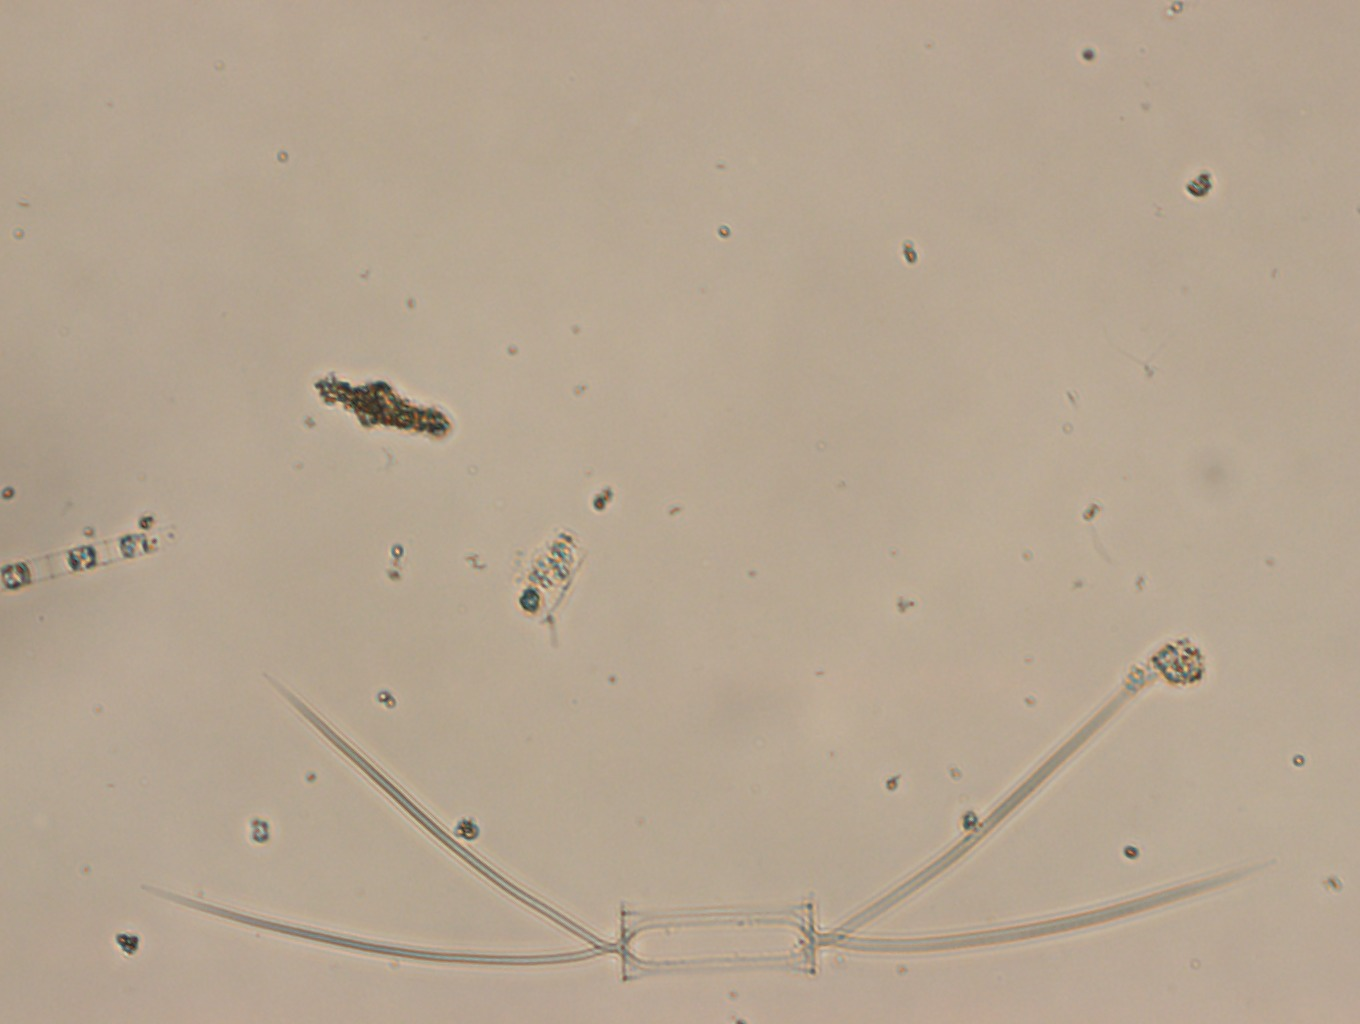chaetoceros: (137, 632, 1282, 981)
skeletonema: (1, 516, 182, 598)
